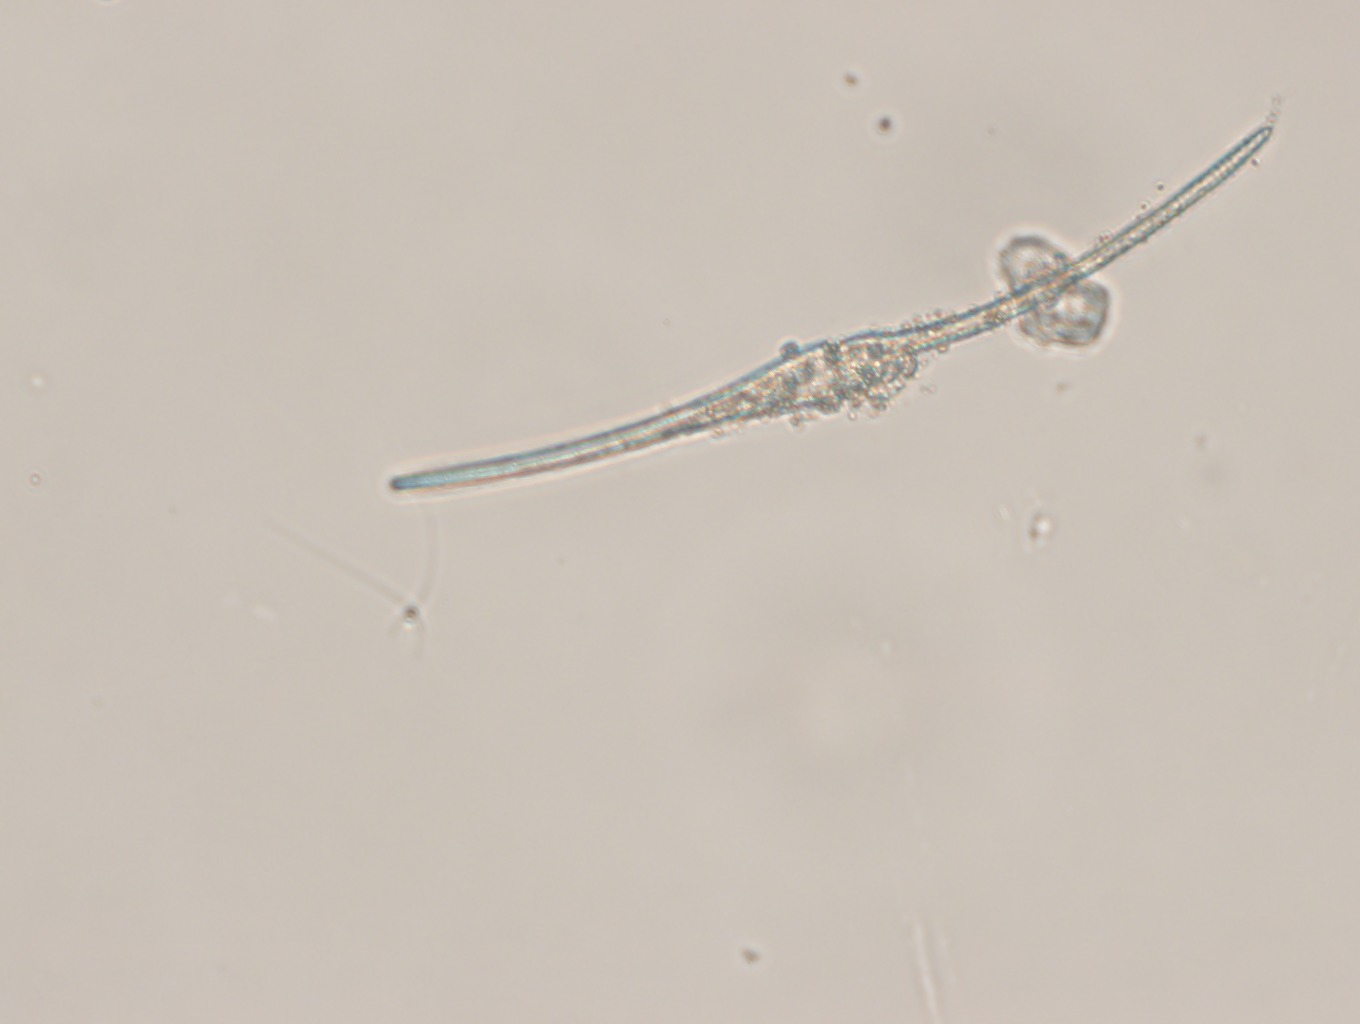ceratium fusus: (382, 120, 1277, 500)
